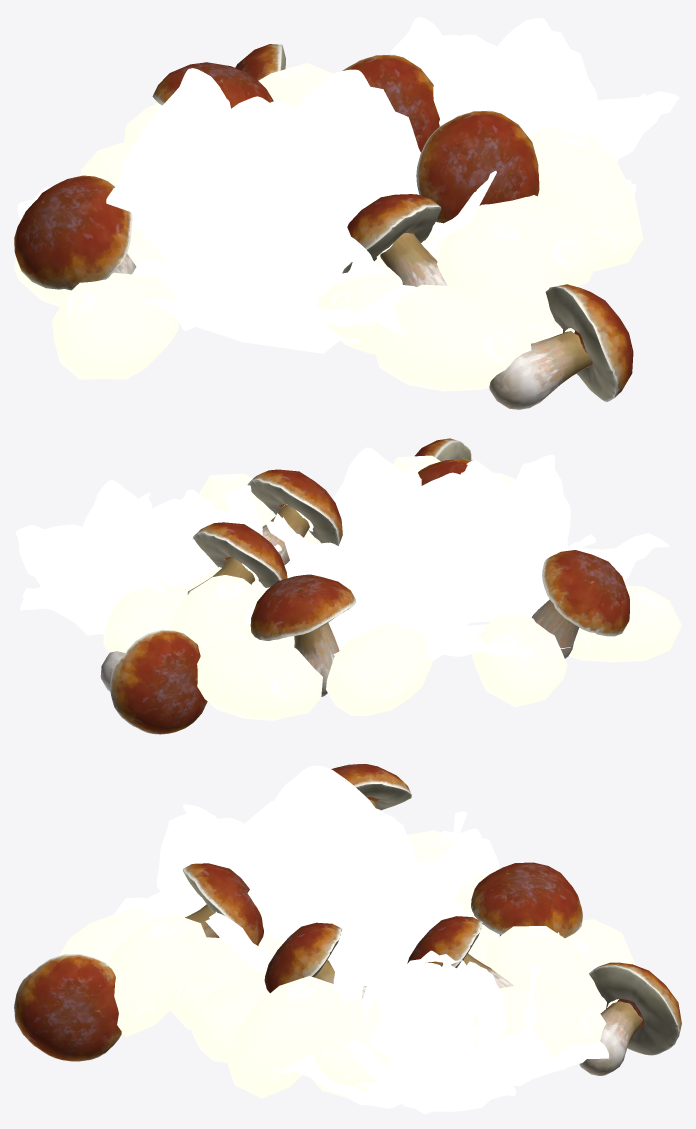
3 views of the same model, one above another, from view 1: azimuth 30°, elevation 25°; view 2: azimuth 150°, elevation 25°; view 3: azimuth 270°, elevation 25° (orthographic). The views are drawn at different scales.
Parts seen in each view (by area): view 1: SM_Dec_Pile_of_Veggies_LOD0; view 2: SM_Dec_Pile_of_Veggies_LOD0; view 3: SM_Dec_Pile_of_Veggies_LOD0.
Part boxes in pixels (x1,y1,x2,y2): SM_Dec_Pile_of_Veggies_LOD0: (14, 17, 679, 409); SM_Dec_Pile_of_Veggies_LOD0: (15, 438, 681, 734); SM_Dec_Pile_of_Veggies_LOD0: (14, 764, 681, 1114).
Bounding box in the file's own units: 1.39 × 0.4076 × 1.32.
Materials: 3 (3 with a texture image).
